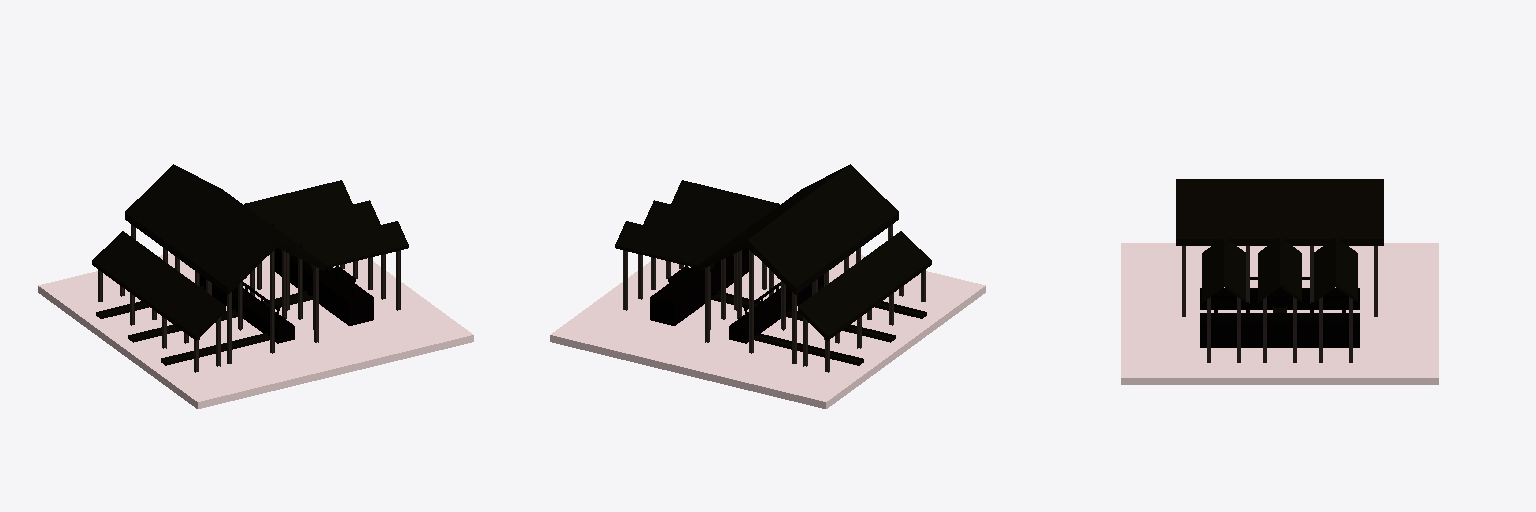
File: MolinoComercial.obj
3 renders of one model, left to right at view 1: azimuth 30°, elevation 25°; view 2: azimuth 150°, elevation 25°; view 3: azimuth 270°, elevation 25°, orthographic.
Visible parts, largest first — view 1: Floor, MainBuilding1 Roof, SideRoof MainBuilding1, MoldBase MoldBase1, SmallRoof1, SmallRoof2, SmallRoof3, MoldBase MoldBase; view 2: Floor, MainBuilding1 Roof, SideRoof MainBuilding1, MoldBase MoldBase1, SmallRoof3, SmallRoof2, SmallRoof1, MoldBase MoldBase; view 3: Floor, MainBuilding1 Roof, MoldBase MoldBase1, SmallRoof2, SmallRoof1, SmallRoof3, MoldBase MoldBase.
Boxes of the visible parts, x1=… form: Floor: x1=38, y1=253, x2=473, y2=408; MainBuilding1 Roof: x1=125, y1=164, x2=324, y2=294; SideRoof MainBuilding1: x1=92, y1=231, x2=225, y2=340; MoldBase MoldBase1: x1=275, y1=248, x2=373, y2=325; SmallRoof1: x1=290, y1=221, x2=408, y2=271; SmallRoof2: x1=272, y1=200, x2=380, y2=245; SmallRoof3: x1=244, y1=180, x2=352, y2=224; MoldBase MoldBase: x1=200, y1=275, x2=294, y2=343; Floor: x1=550, y1=253, x2=985, y2=408; MainBuilding1 Roof: x1=699, y1=164, x2=898, y2=294; SideRoof MainBuilding1: x1=798, y1=231, x2=931, y2=340; MoldBase MoldBase1: x1=650, y1=248, x2=748, y2=325; SmallRoof3: x1=615, y1=221, x2=733, y2=271; SmallRoof2: x1=643, y1=200, x2=751, y2=245; SmallRoof1: x1=671, y1=180, x2=779, y2=224; MoldBase MoldBase: x1=729, y1=275, x2=823, y2=343; Floor: x1=1121, y1=243, x2=1438, y2=384; MainBuilding1 Roof: x1=1176, y1=179, x2=1383, y2=245; MoldBase MoldBase1: x1=1200, y1=313, x2=1359, y2=347; SmallRoof2: x1=1258, y1=237, x2=1301, y2=302; SmallRoof1: x1=1202, y1=237, x2=1245, y2=302; SmallRoof3: x1=1314, y1=237, x2=1357, y2=302; MoldBase MoldBase: x1=1200, y1=288, x2=1359, y2=309.
Bounding box in the file's own units: 200 × 85 × 200.